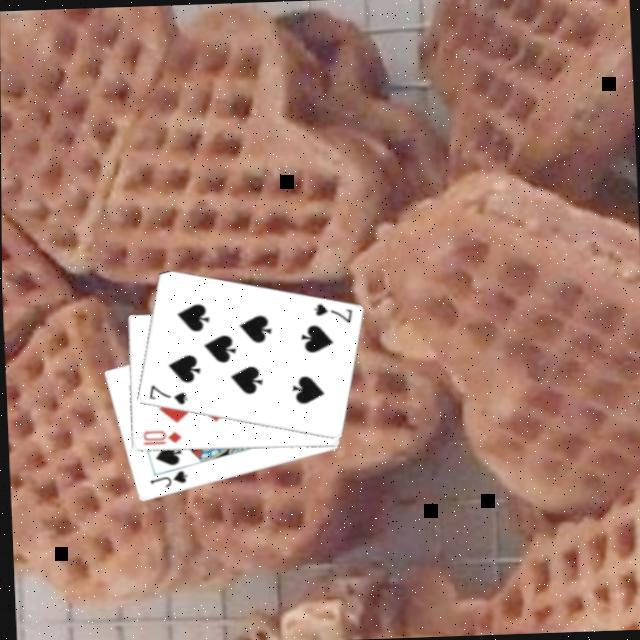10D: (136, 428, 181, 450)
7S: (142, 382, 187, 410), (308, 300, 353, 328)
JS: (144, 469, 188, 493)
